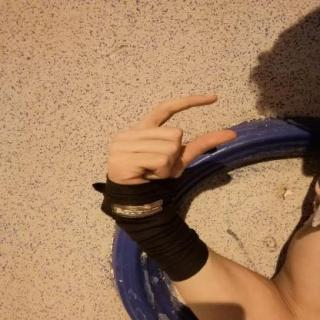DELL: (95, 87, 244, 216)
